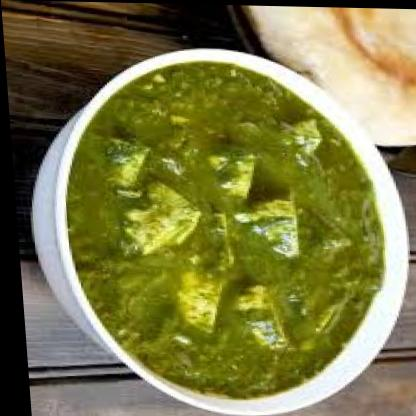palak_paneer: (52, 58, 390, 401)
